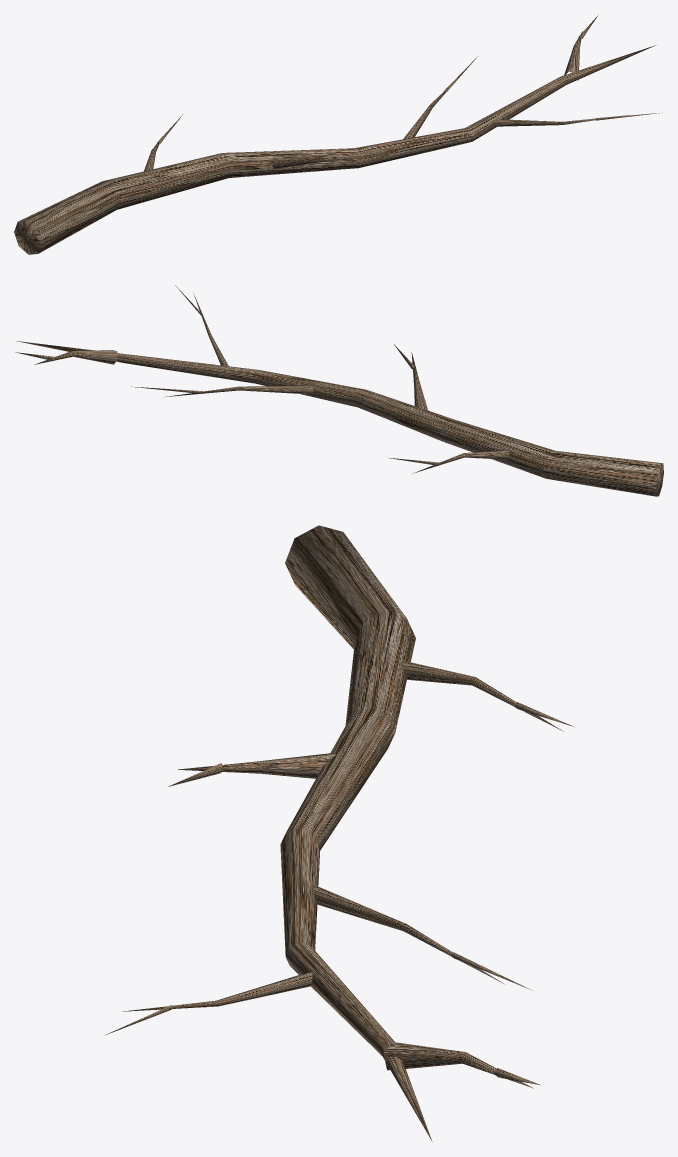
Rendered from fallen-bare-fork.glb.
The picture shows the model from 3 angles, top to bottom: view 1: azimuth 30°, elevation 25°; view 2: azimuth 150°, elevation 25°; view 3: azimuth 270°, elevation 25°; orthographic projection. The views are drawn at different scales.
Parts seen in each view (by area): view 1: bare-fork; view 2: bare-fork; view 3: bare-fork.
Boxes of the visible parts, x1,y1,x2,y2 form: bare-fork: (14, 14, 662, 254); bare-fork: (15, 285, 663, 496); bare-fork: (105, 525, 573, 1141).
Size of the model in its own units: 0.9168 by 0.0719 by 0.3027.
1 material, 1 textured.
